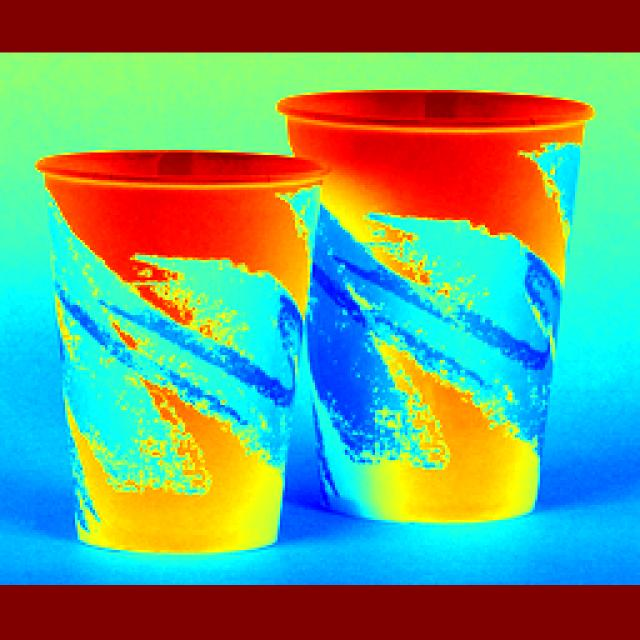Paper Cups: (284, 96, 589, 513), (30, 146, 308, 560)
